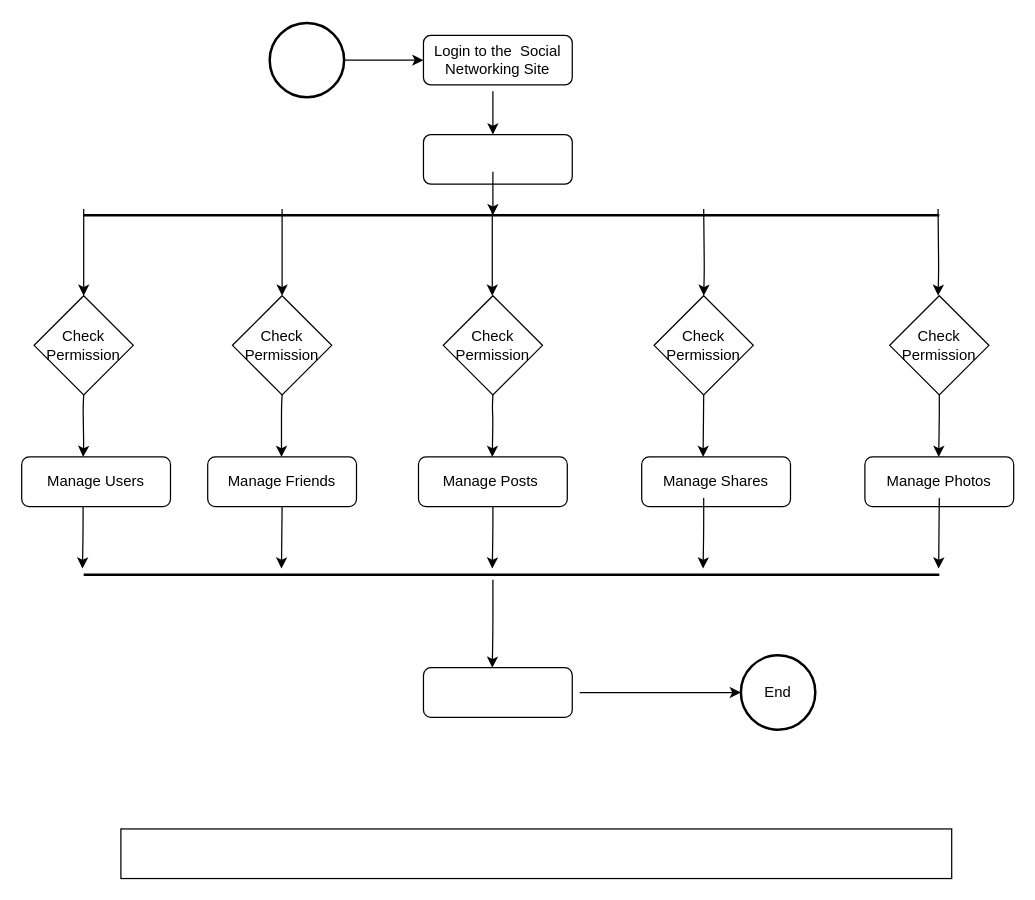
The diagram is 1035 pixels wide and 900 high, and some of its shapes have lost their labels. Here are the shapes that lost their labels. From the top down, the box of each, then its label:
(268, 21, 345, 98): Start
(422, 133, 572, 184): Check User Level and Permission
(422, 666, 572, 717): Logout from the System
(120, 828, 952, 879): Activity Diagram for Social Networking Site
